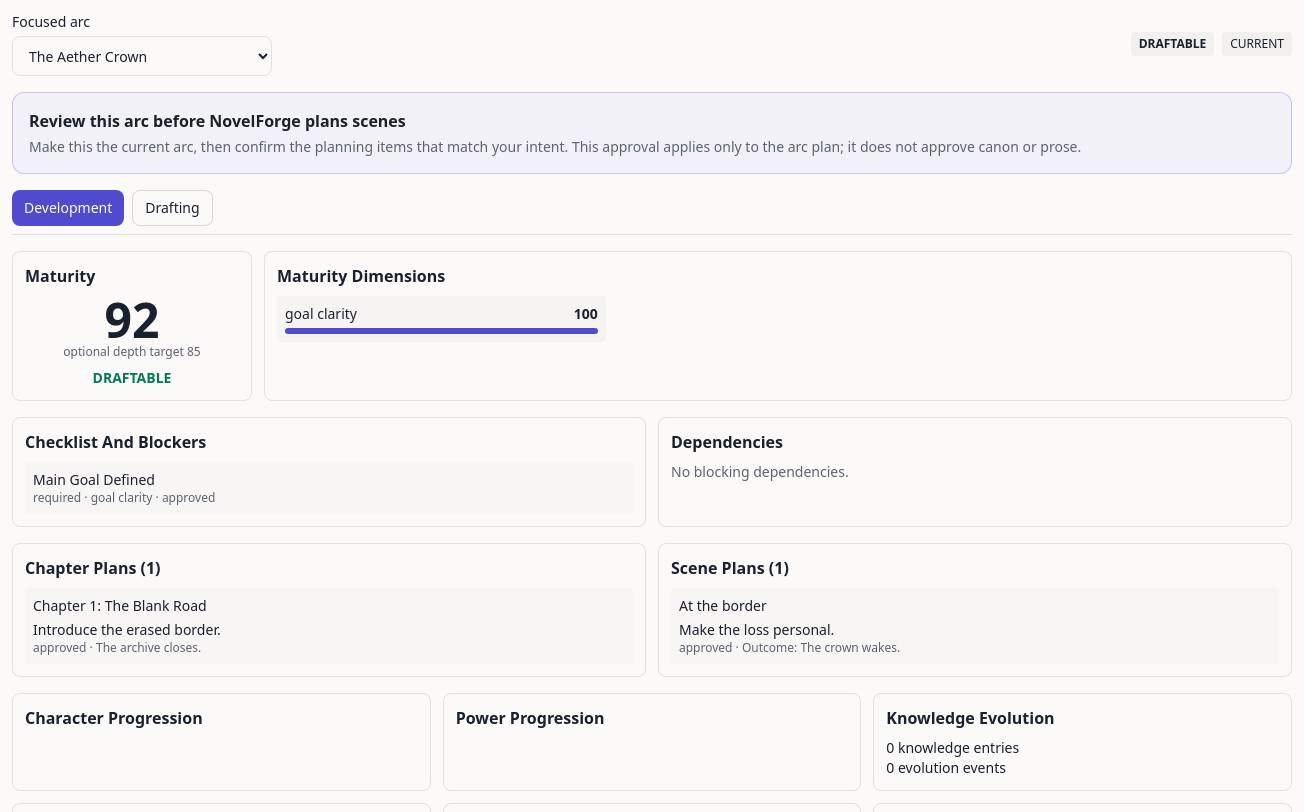
Test case: assembles one arc into a development workspace
The image size is (1304, 812).
Expected: the element with test id "arc-development-workspace" shows "92", x1=104 y1=287 x2=159 y2=352
Expected: the element with test id "arc-development-workspace" shows "DRAFTABLE", x1=1139 y1=35 x2=1206 y2=52
Click the tab with test id "arc-drafting-tab" at (172, 208), box x1=132 y1=190 x2=212 y2=226
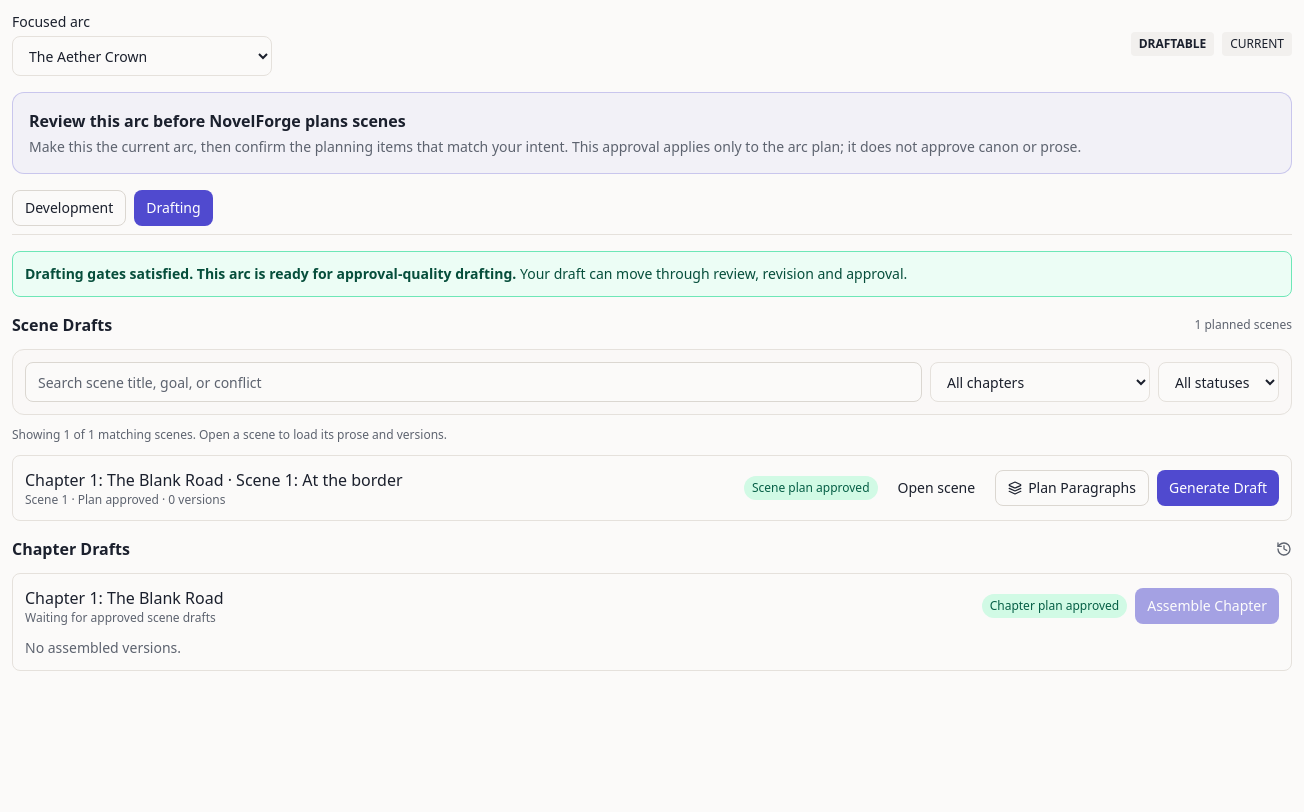
Now the element with test id "drafting-workspace" shows "Drafting gates satisfied", box x1=25 y1=264 x2=516 y2=283
Now the button with aria-label "Generate Scene" is enabled, box x1=1157 y1=470 x2=1279 y2=506
